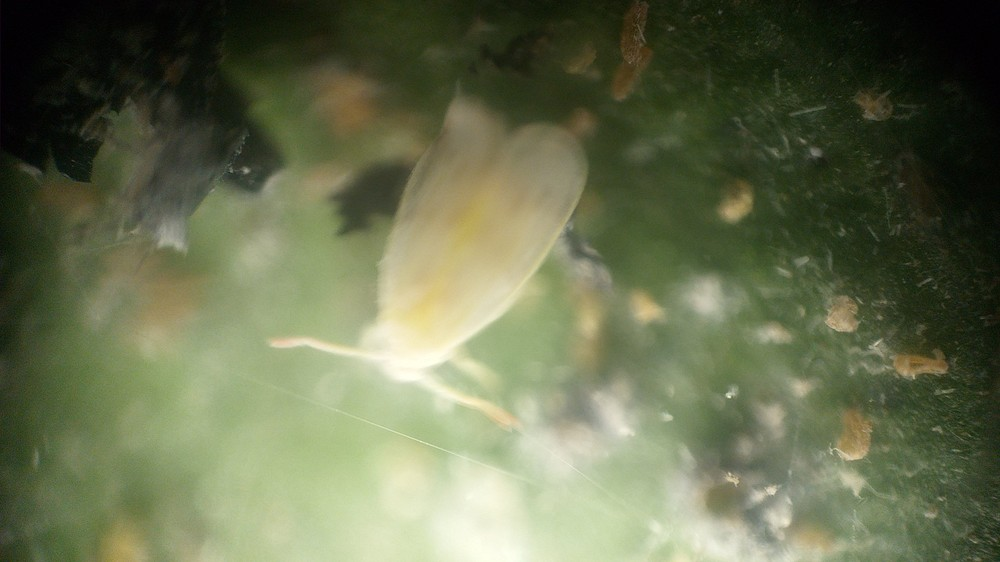Mosca Blanca: (280, 86, 607, 447)
